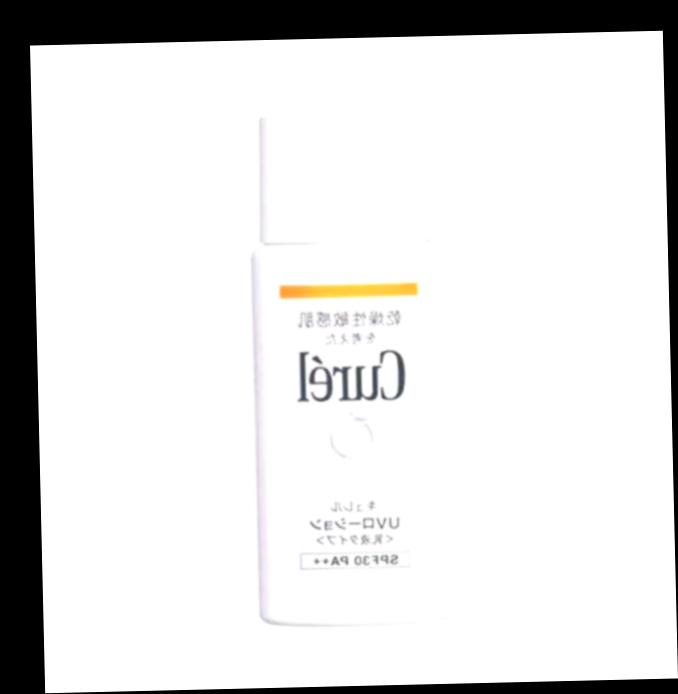cosmetic: (247, 106, 454, 621)
